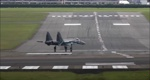maybay_muctieu: (39, 32, 84, 52)
